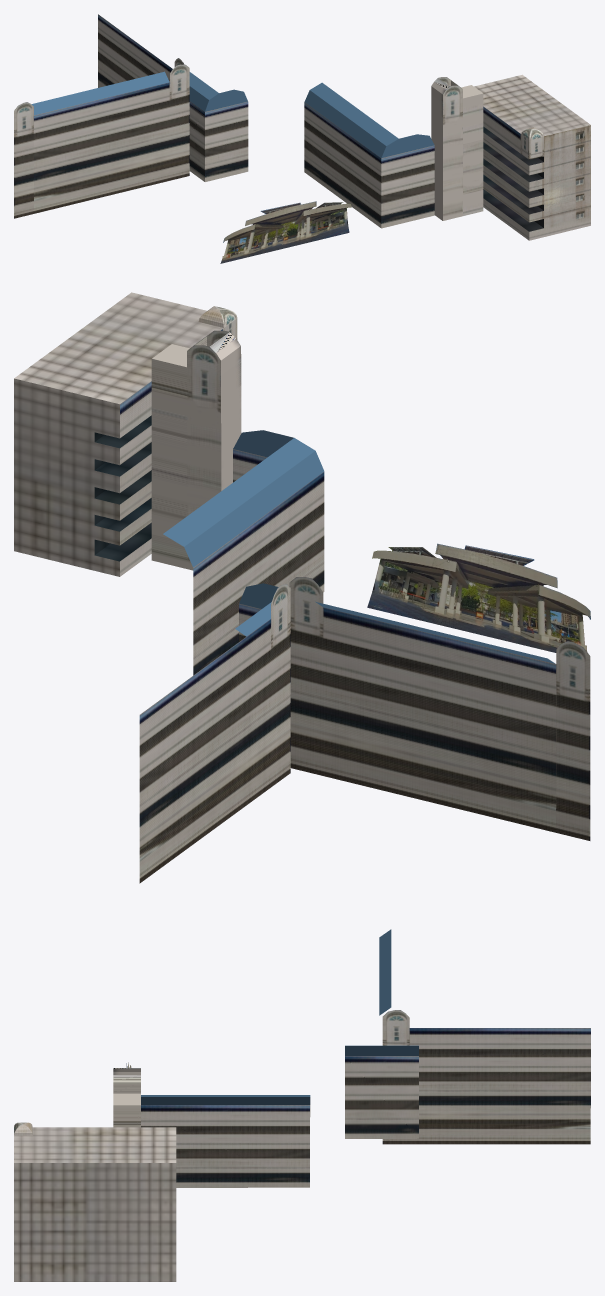
Rendered from SchoolBuilding2.fbx.
3 renders of one model, top to bottom at view 1: azimuth 30°, elevation 25°; view 2: azimuth 150°, elevation 25°; view 3: azimuth 270°, elevation 25°, orthographic. The views are drawn at different scales.
Visible parts, largest first — view 1: Plane.011, school2, Plane.017, Plane.018, Plane.010, Plane.008, Plane.012; view 2: Plane.011, school2, Plane.012, Plane.017, Plane.018, Plane.008, Plane.010; view 3: school2, Plane.012, Plane.017, Plane.010, Plane.018, Plane.011.
Part boxes in pixels (x1=…): Plane.011: x1=14, y1=64, x2=189, y2=218; school2: x1=474, y1=74, x2=590, y2=240; Plane.017: x1=304, y1=82, x2=434, y2=228; Plane.018: x1=431, y1=77, x2=483, y2=220; Plane.010: x1=189, y1=72, x2=248, y2=181; Plane.008: x1=220, y1=201, x2=351, y2=263; Plane.012: x1=98, y1=14, x2=184, y2=87; Plane.011: x1=289, y1=577, x2=590, y2=840; school2: x1=14, y1=292, x2=237, y2=576; Plane.012: x1=139, y1=583, x2=290, y2=883; Plane.017: x1=163, y1=430, x2=324, y2=675; Plane.018: x1=151, y1=330, x2=241, y2=570; Plane.008: x1=367, y1=543, x2=590, y2=652; Plane.010: x1=235, y1=583, x2=278, y2=641; school2: x1=14, y1=1122, x2=176, y2=1281; Plane.012: x1=382, y1=1010, x2=590, y2=1144; Plane.017: x1=141, y1=1095, x2=310, y2=1187; Plane.010: x1=345, y1=1045, x2=418, y2=1138; Plane.018: x1=113, y1=1068, x2=140, y2=1127; Plane.011: x1=379, y1=929, x2=391, y2=1015.
Bounding box in the file's own units: 7357 × 2289 × 7367.
5 materials, 4 textured.
